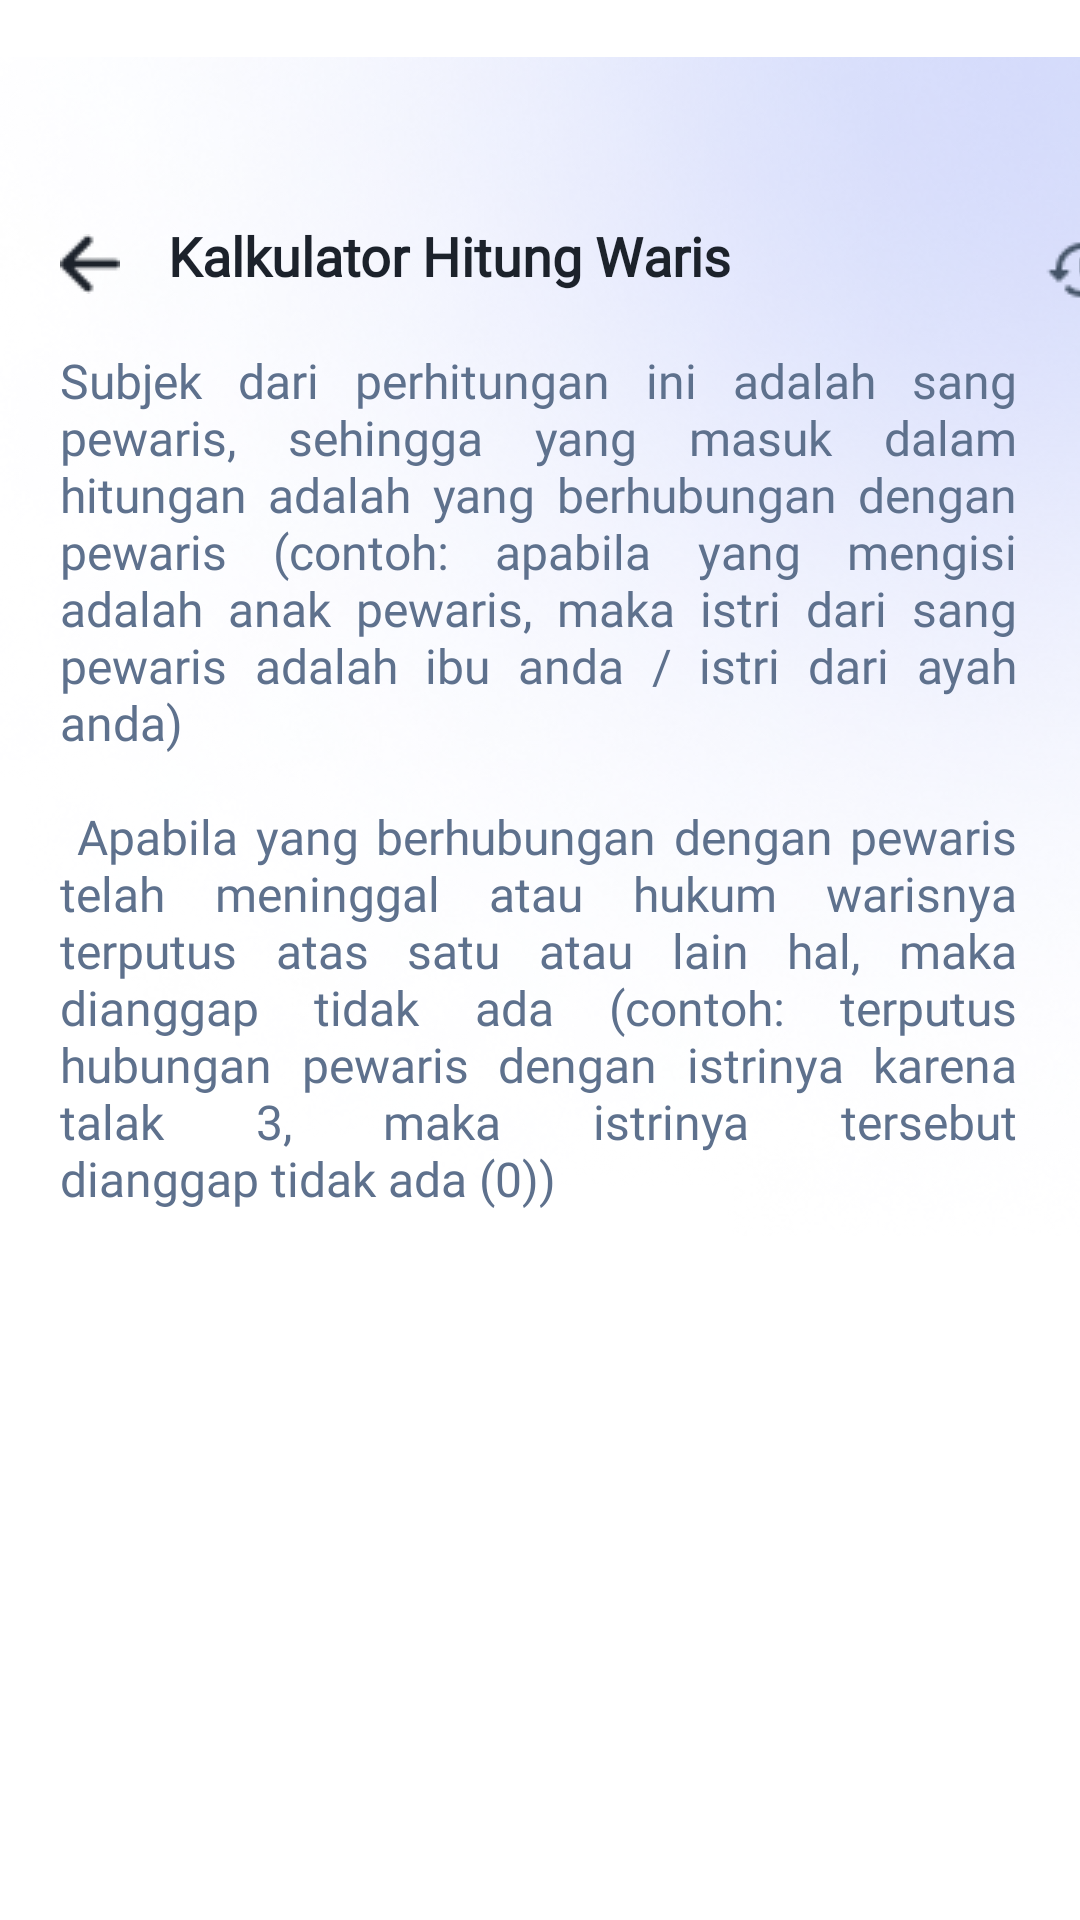

Point at icon controls on the screen. Image size 1080 x 1920, points as (x,y).
arrowback: (90,264)
